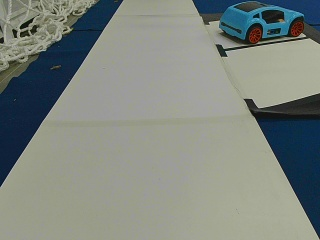car: (219, 2, 305, 43)
